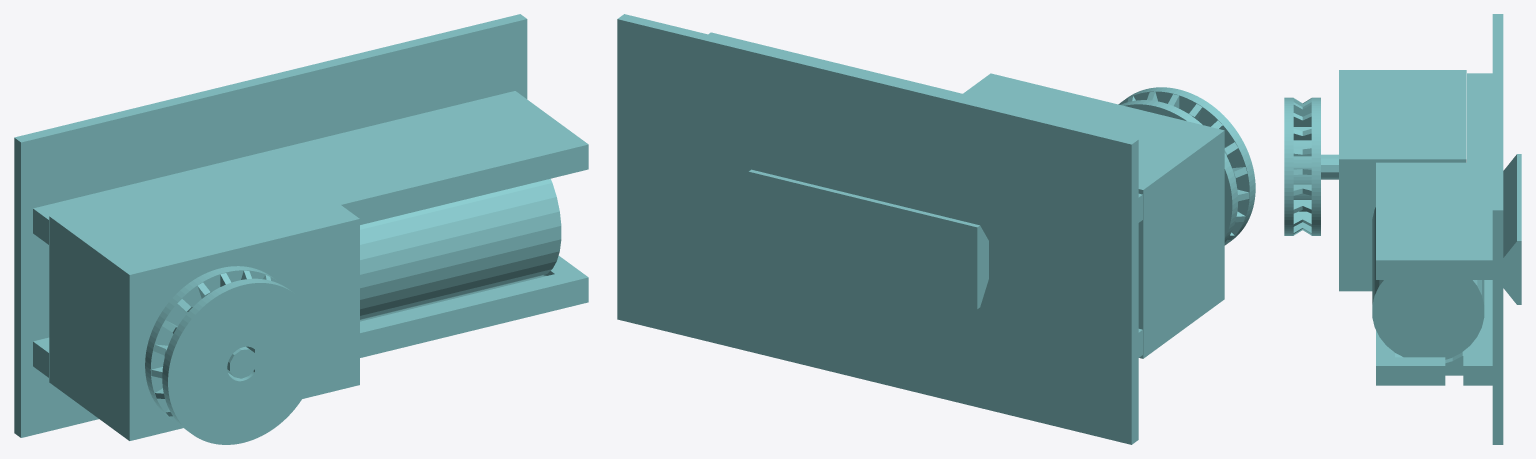
The model's file is frame1.glb.
3 renders of one model, left to right at view 1: azimuth 30°, elevation 25°; view 2: azimuth 150°, elevation 25°; view 3: azimuth 270°, elevation 25°, orthographic. The views are drawn at different scales.
Parts seen in each view (by area): view 1: 3MF; view 2: 3MF; view 3: 3MF.
Boxes of the visible parts, left/top/right/bottom form: 3MF: left=14, top=14, right=588, bottom=444; 3MF: left=617, top=14, right=1255, bottom=444; 3MF: left=1284, top=14, right=1521, bottom=444.
Bounding box in the file's own units: 128 × 71.15 × 65.1.
